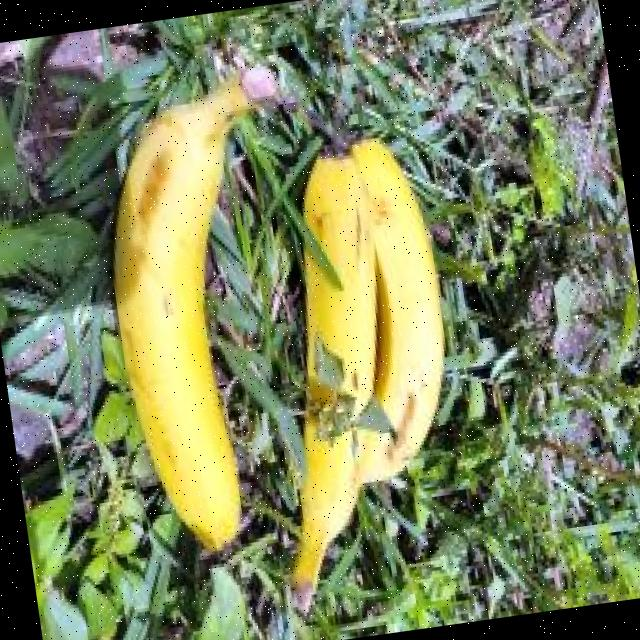banana: (113, 76, 251, 549), (290, 157, 376, 608)
